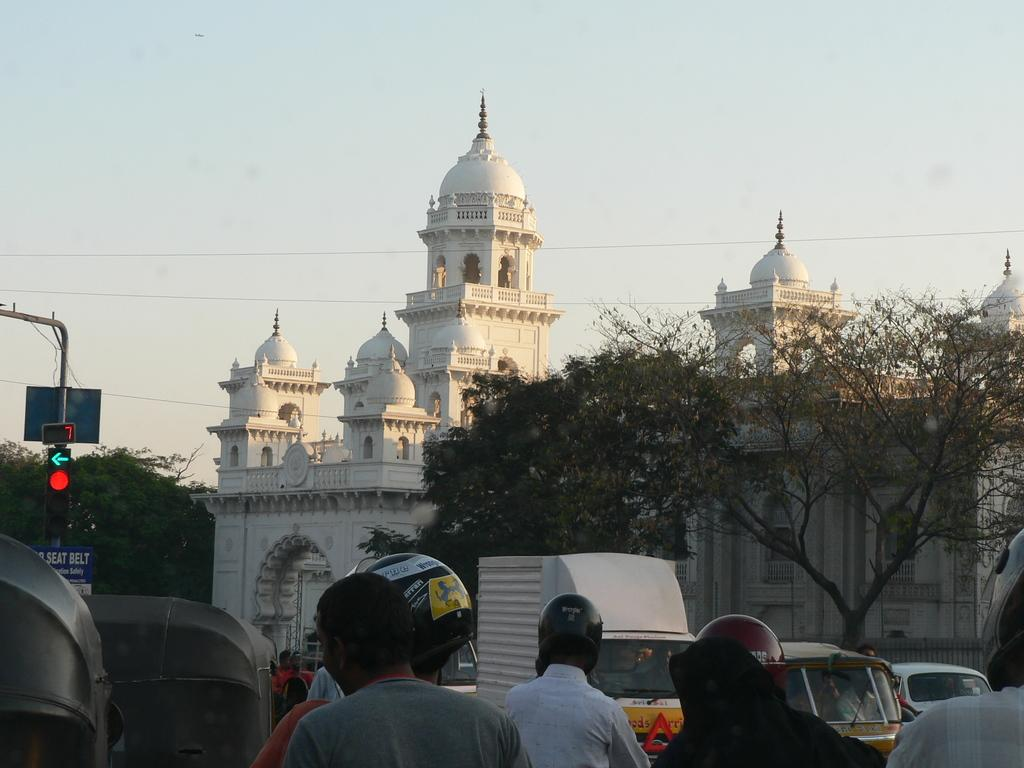helmet: (331, 552, 474, 678), (691, 613, 788, 709), (980, 527, 1024, 692), (538, 592, 603, 675), (289, 650, 304, 668)
nohelmet: (313, 571, 416, 699)
